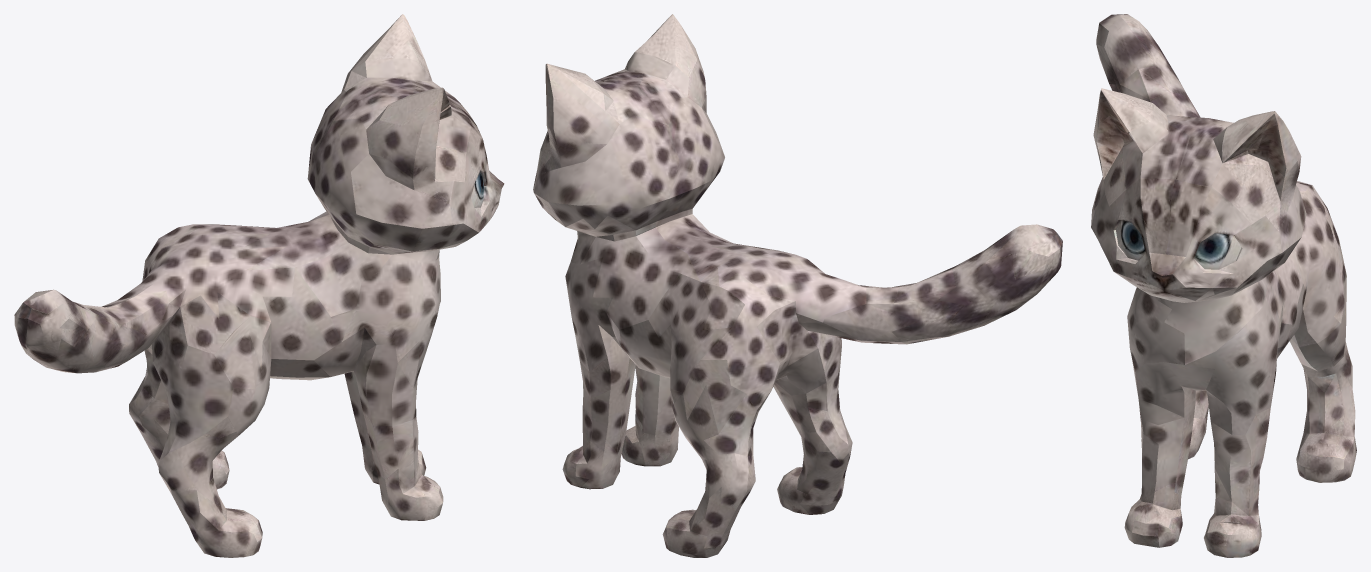
File: PRISMPAW-lo.glb
3 views of the same model, side by side, from view 1: azimuth 30°, elevation 25°; view 2: azimuth 150°, elevation 25°; view 3: azimuth 270°, elevation 25° (orthographic). The views are drawn at different scales.
Visible parts, largest first — view 1: output_unwrapped; view 2: output_unwrapped; view 3: output_unwrapped.
Part boxes in pixels (box(x1,y1,x2,y2)): output_unwrapped: box(14, 14, 504, 557); output_unwrapped: box(533, 14, 1062, 557); output_unwrapped: box(1091, 14, 1356, 557).
Size of the model in its own units: 1.2 by 1 by 0.5366.
1 material, 1 textured.
